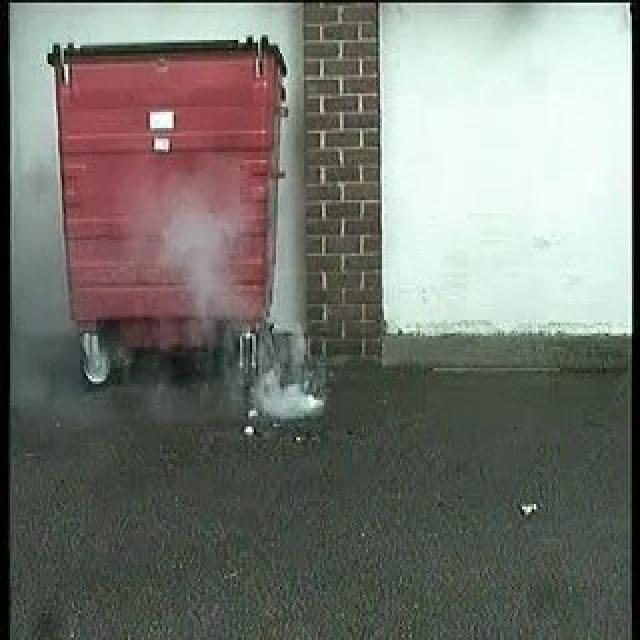Smoke: (160, 198, 234, 314), (257, 368, 323, 421)
